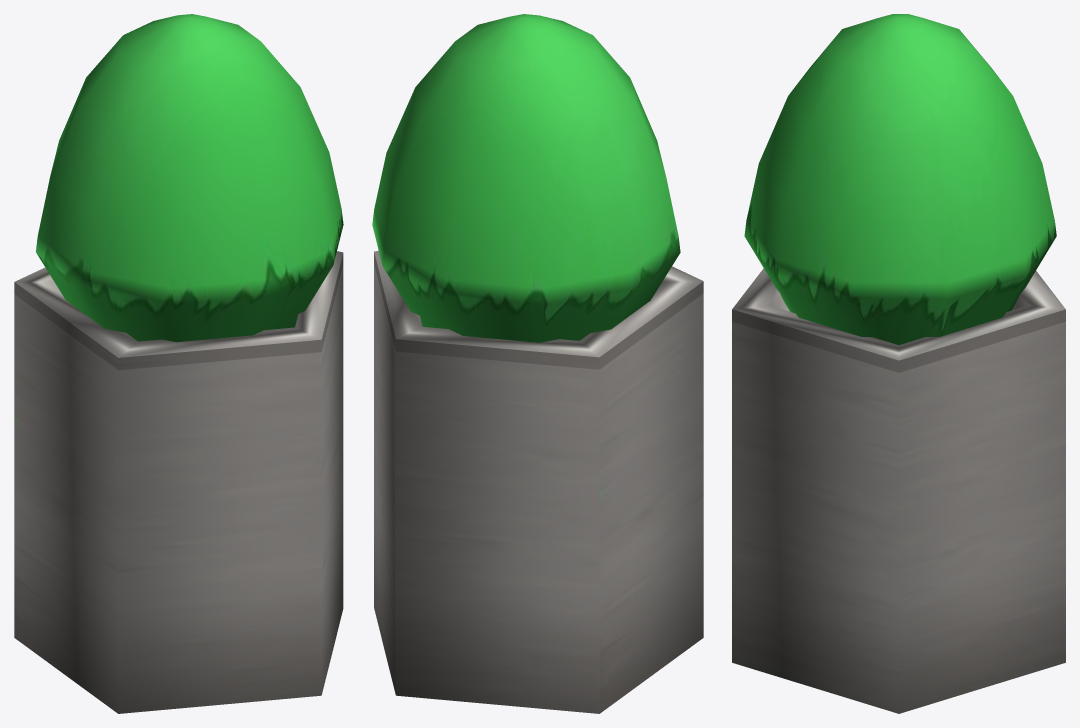
Rendered from french_plant_pot.glb.
3 views of the same model, side by side, from view 1: azimuth 30°, elevation 25°; view 2: azimuth 150°, elevation 25°; view 3: azimuth 270°, elevation 25° (orthographic).
Visible parts, largest first — view 1: french_trees:polySurface3369; view 2: french_trees:polySurface3369; view 3: french_trees:polySurface3369.
Part boxes in pixels (left/top/right/bottom): french_trees:polySurface3369: left=14, top=14, right=343, bottom=713; french_trees:polySurface3369: left=372, top=14, right=703, bottom=713; french_trees:polySurface3369: left=732, top=14, right=1065, bottom=713.
Size of the model in its own units: 0.7634 by 1.62 by 0.7873.
1 material, 1 textured.
